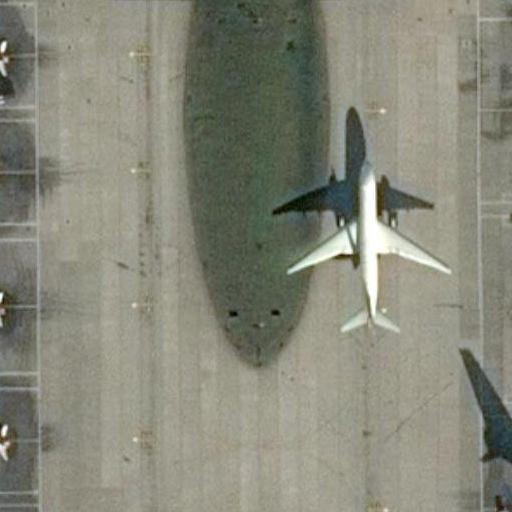Aircraft: (286, 159, 451, 334), (497, 417, 512, 512), (0, 394, 9, 493), (0, 8, 8, 107), (0, 259, 8, 358), (0, 511, 1, 512)
